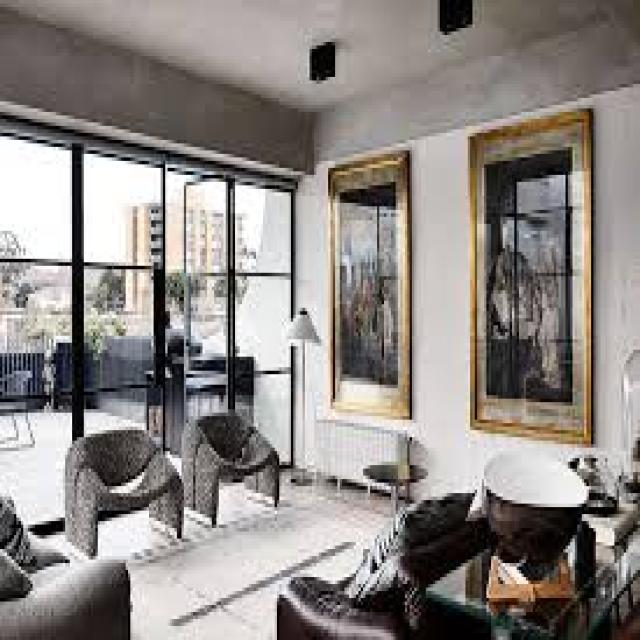Chair: (37, 430, 185, 547), (184, 417, 286, 525)
Lamp: (276, 302, 328, 495)
Sofa: (261, 490, 474, 637)
Table: (364, 453, 442, 509)
